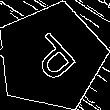P_SE: (20, 26, 82, 88)
